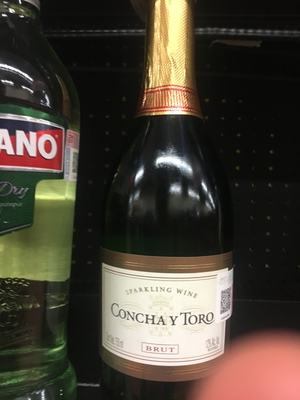brut: (104, 8, 240, 394)
